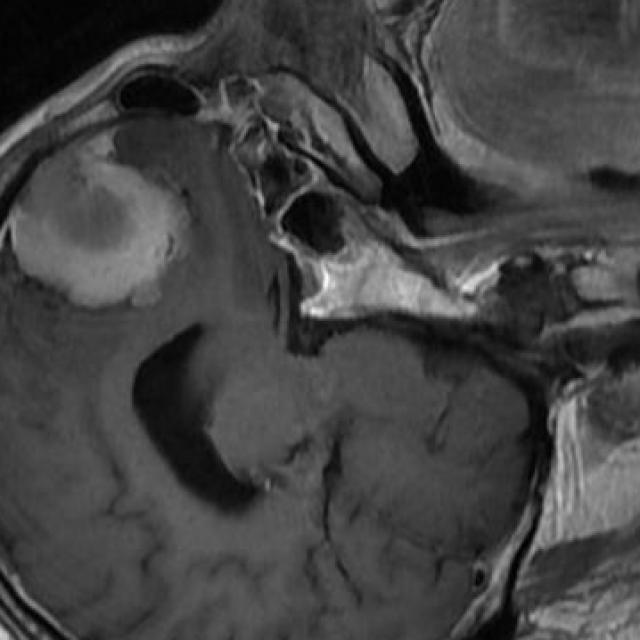meningioma: (9, 135, 191, 310)
